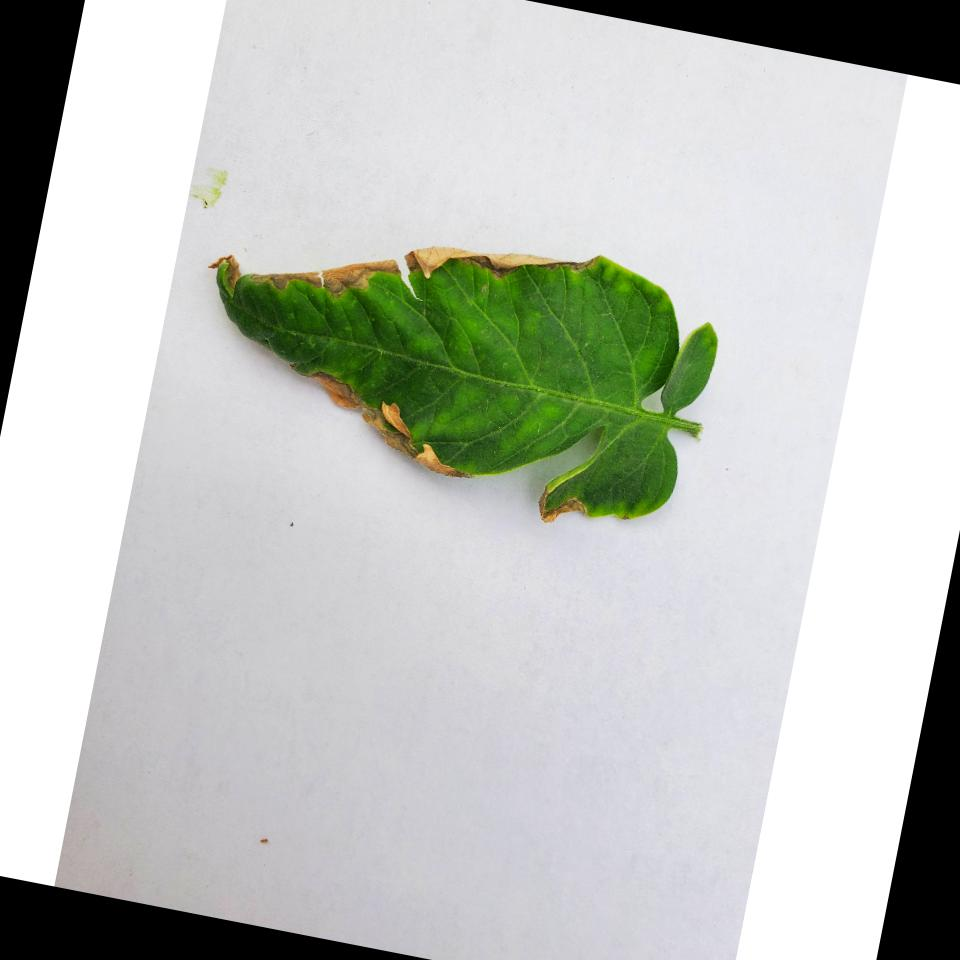tomato_bacterial_blight: (172, 172, 756, 543)
